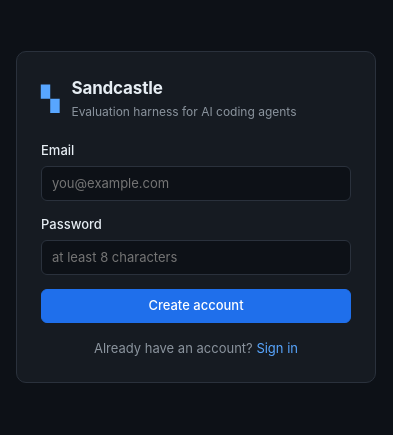
it: sign in › renders a 422 validation error readably
This screenshot has width=393, height=435.
Type "new@example.com" into the field labelled "Email" at (196, 184), box top-left (41, 166), bottom-right (351, 201)
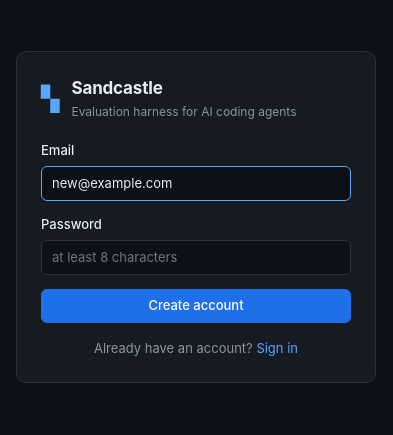
Type "shortpw" into the password field labelled "Password" at (196, 258), box top-left (41, 240), bottom-right (351, 275)
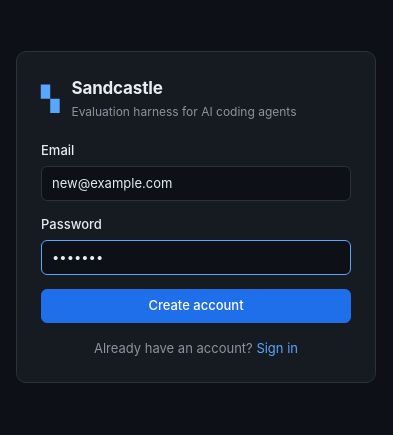
Click the button "Create account" at (196, 306), box top-left (41, 289), bottom-right (351, 323)
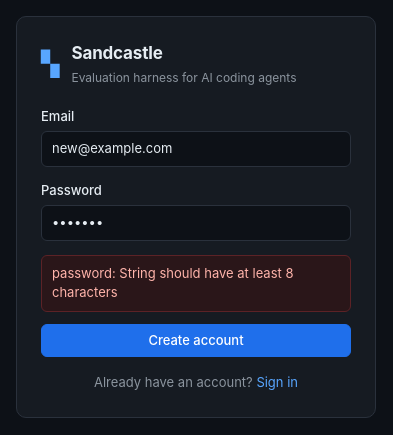
Expected: the text "password: String should have at least 8 characters" is shown, top-left (41, 255), bottom-right (351, 312)
